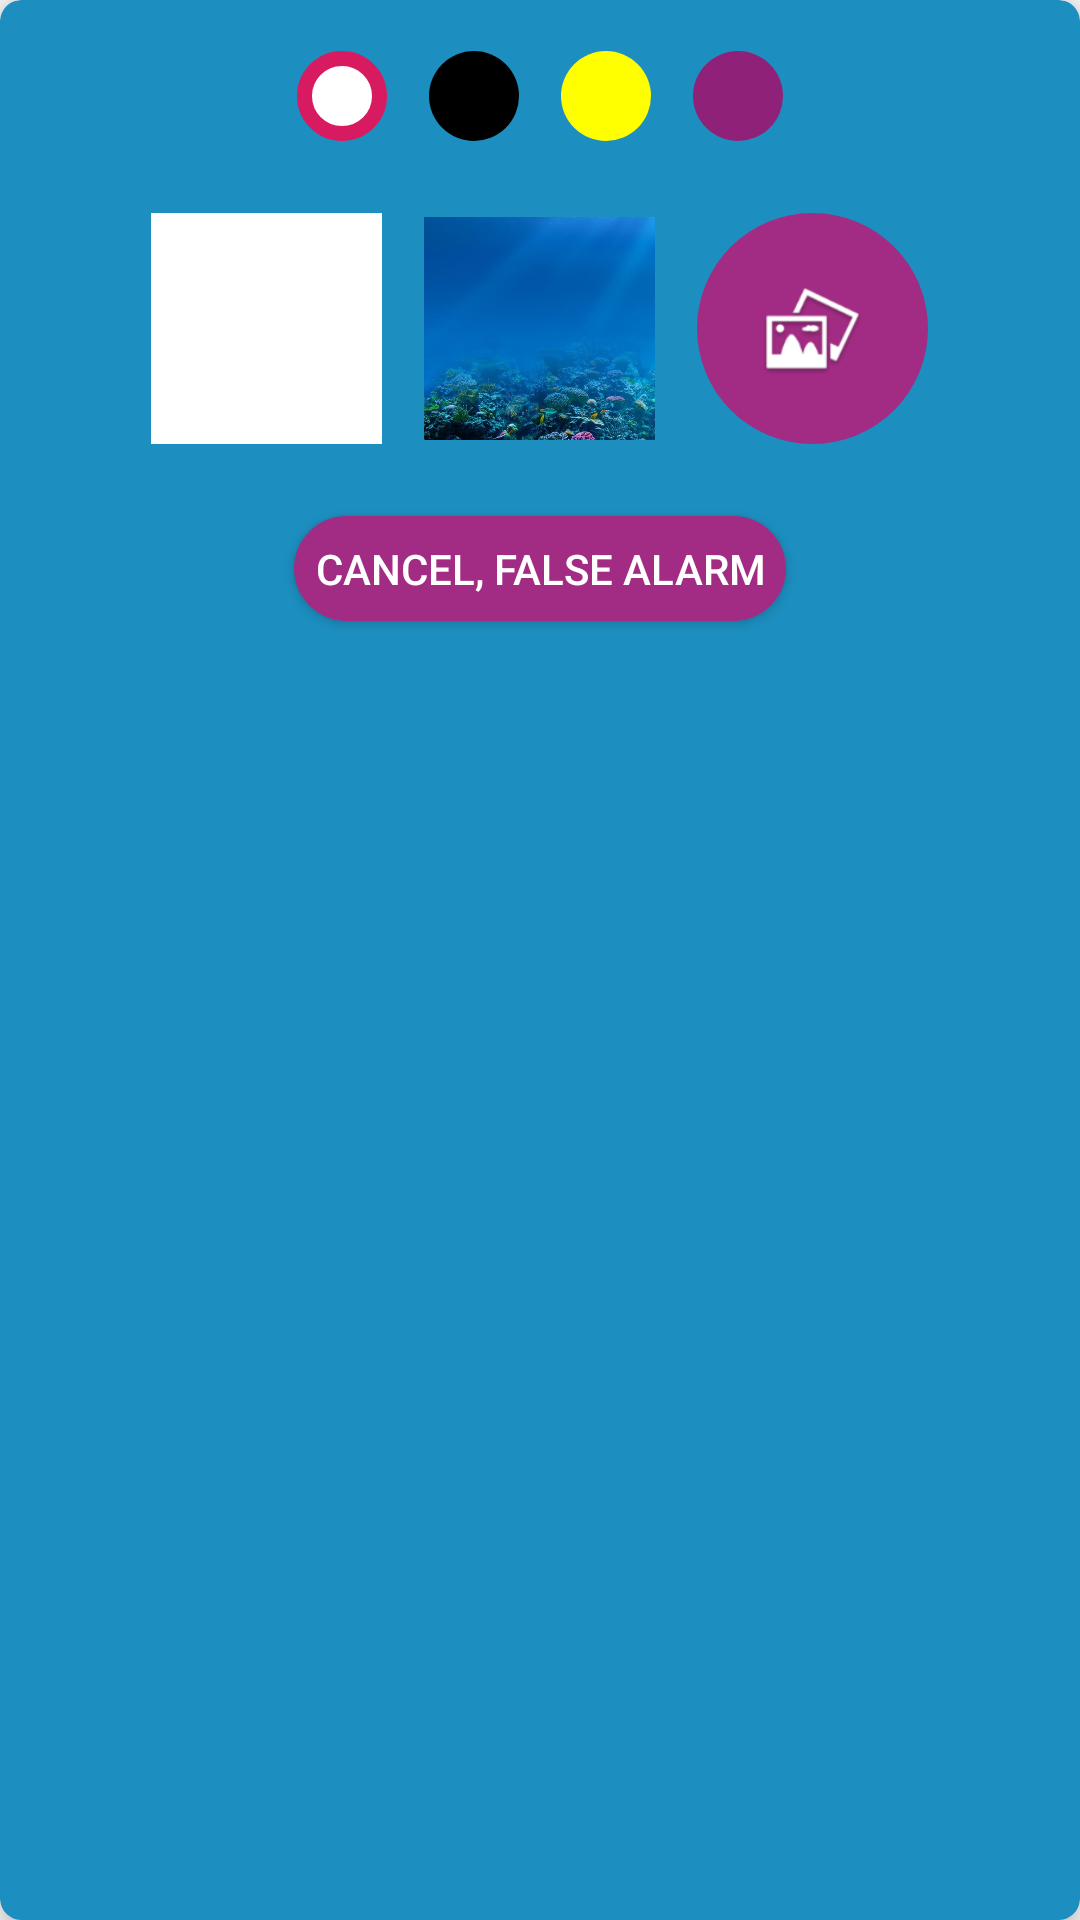

Where icons sit on this 1080px×1920px app screen, as (x1, y1, x2, y2):
gallery: (697, 213, 928, 444)
